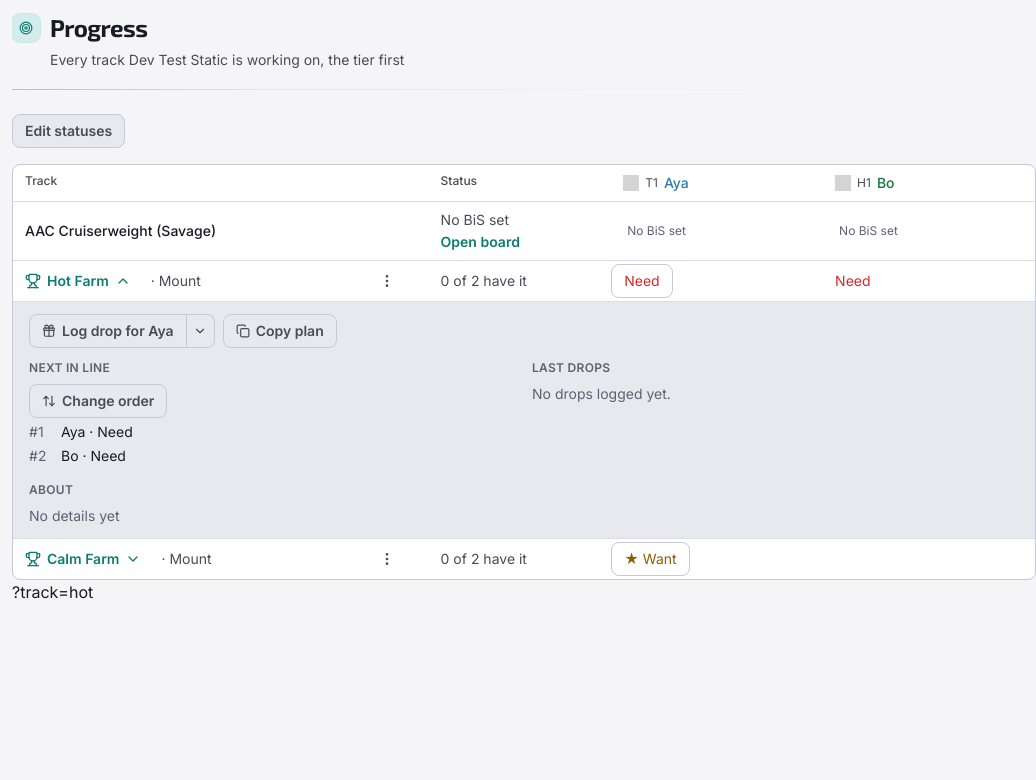
Test case: Delete (D-11) › closes only the menu on Escape, leaving the open row's panel
Expected: the row with test id "progress-expansion" is shown, [13, 302, 1035, 538]
Click the button named "Actions for Hot Farm". click: (387, 281)
box: [373, 267, 401, 295]
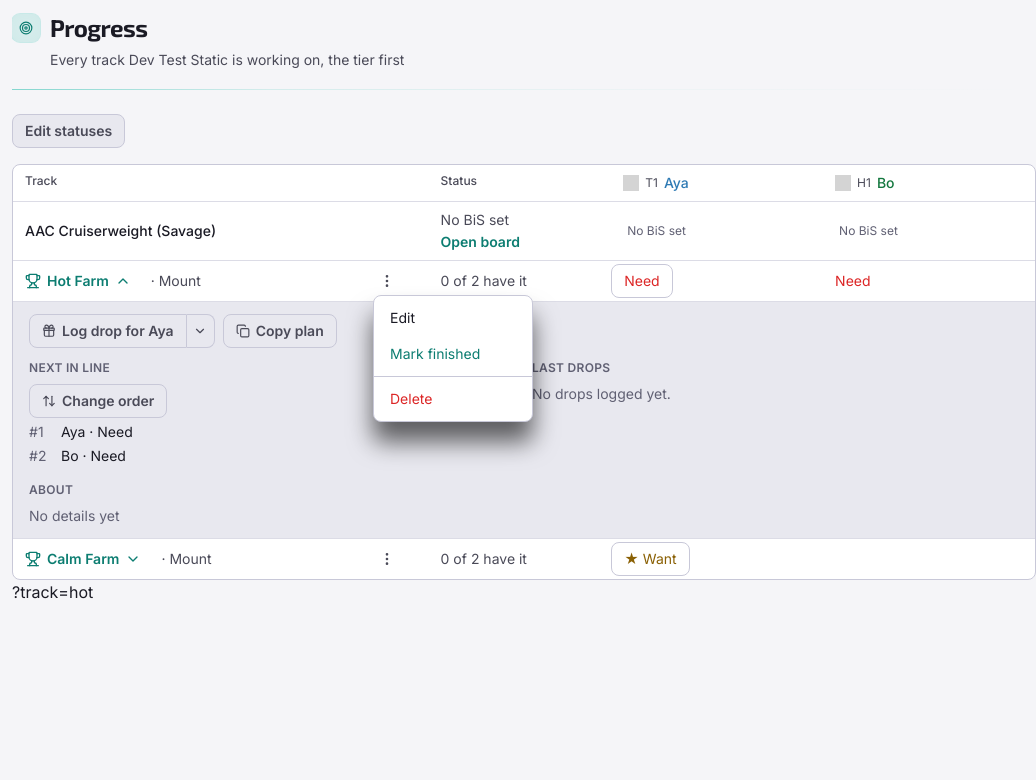
Press Escape in the menu item "Mark finished", box [374, 336, 532, 372]
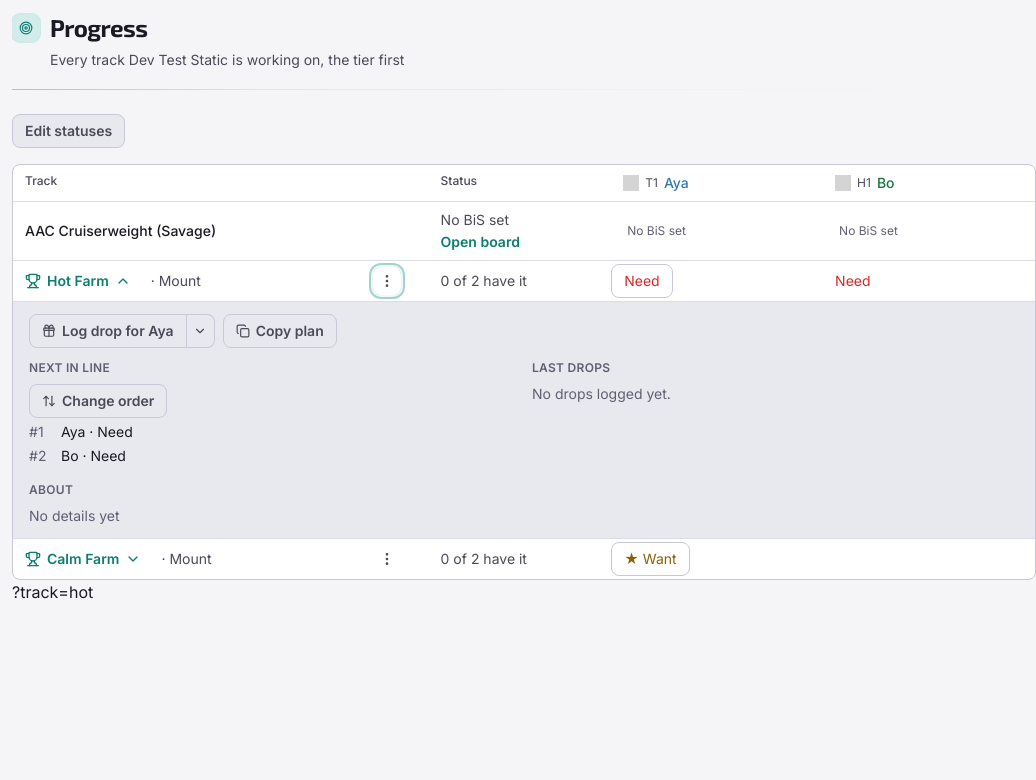
Expected: the row with test id "progress-expansion" is shown, [13, 302, 1035, 538]
Now the menu is gone
